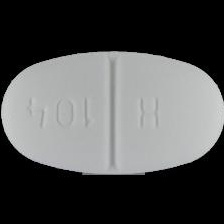70786-0104: (0, 0, 224, 224)
